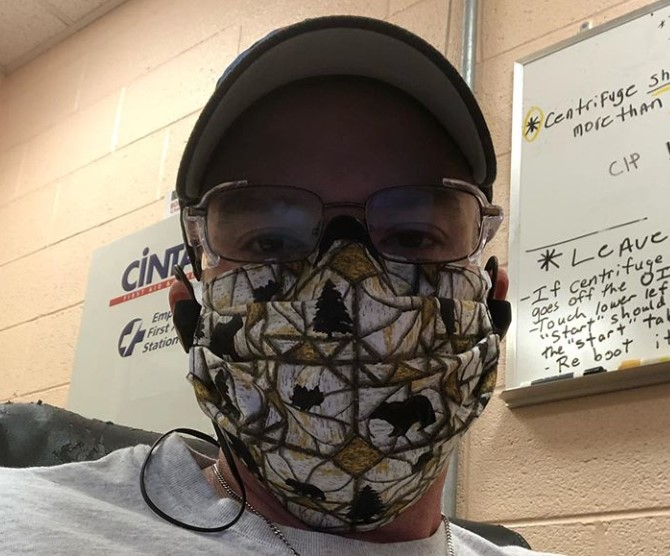face_with_mask: (171, 13, 513, 542)
